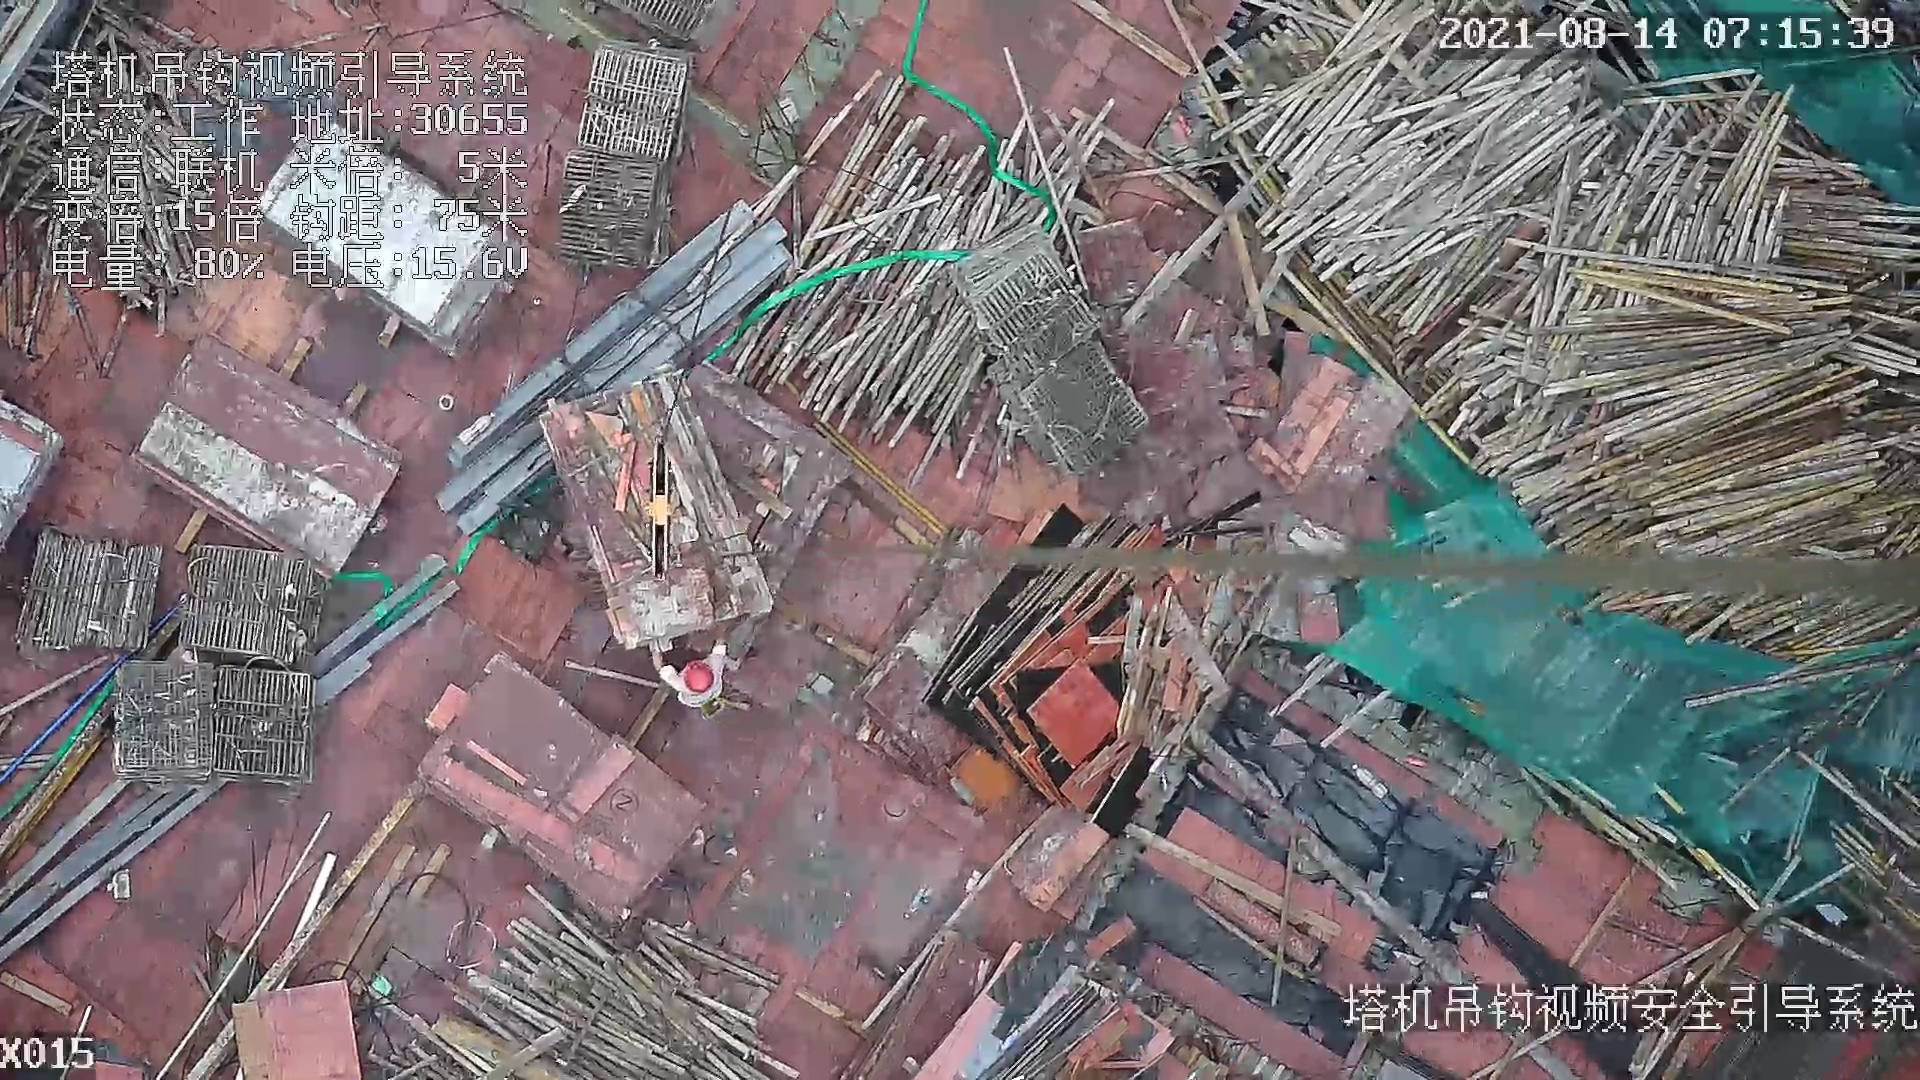helmet: (682, 660, 715, 691)
hook: (638, 440, 679, 582)
person: (653, 645, 740, 710)
